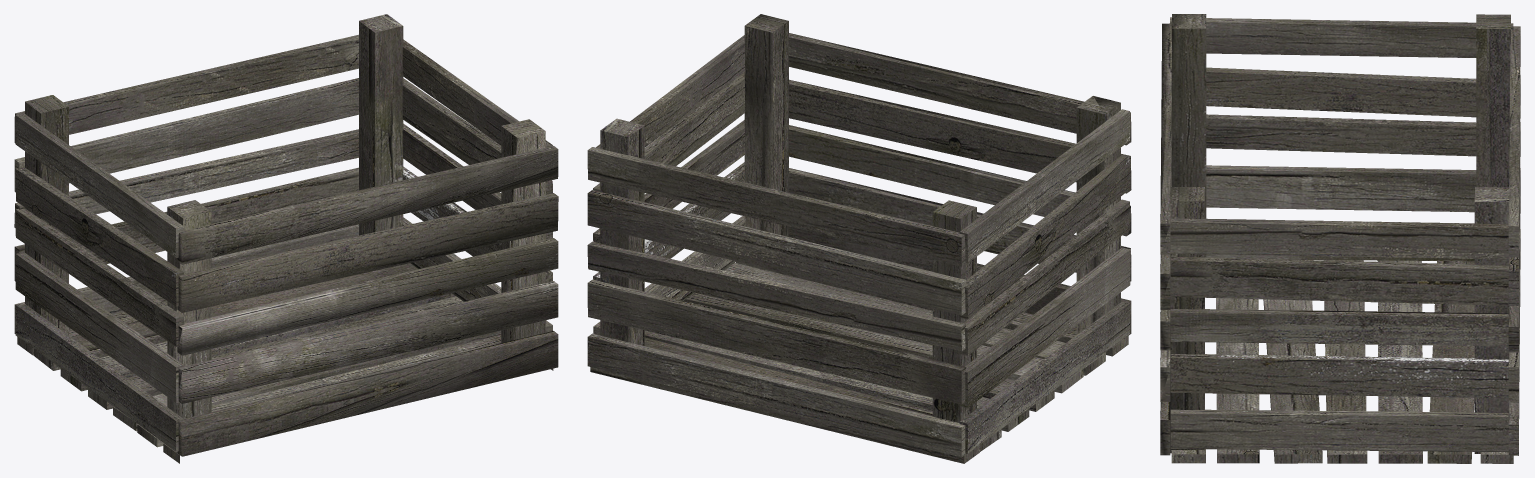
File: Box_Wood_A.fbx
The picture shows the model from 3 angles, left to right: view 1: azimuth 30°, elevation 25°; view 2: azimuth 150°, elevation 25°; view 3: azimuth 270°, elevation 25°; orthographic projection. The views are drawn at different scales.
Visible parts, largest first — view 1: Box_Wood_A; view 2: Box_Wood_A; view 3: Box_Wood_A.
Boxes of the visible parts, x1,y1,x2,y2 form: Box_Wood_A: (14, 14, 558, 463); Box_Wood_A: (587, 14, 1131, 463); Box_Wood_A: (1160, 14, 1520, 463).
Size of the model in its own units: 80.84 by 49.39 by 62.58.
